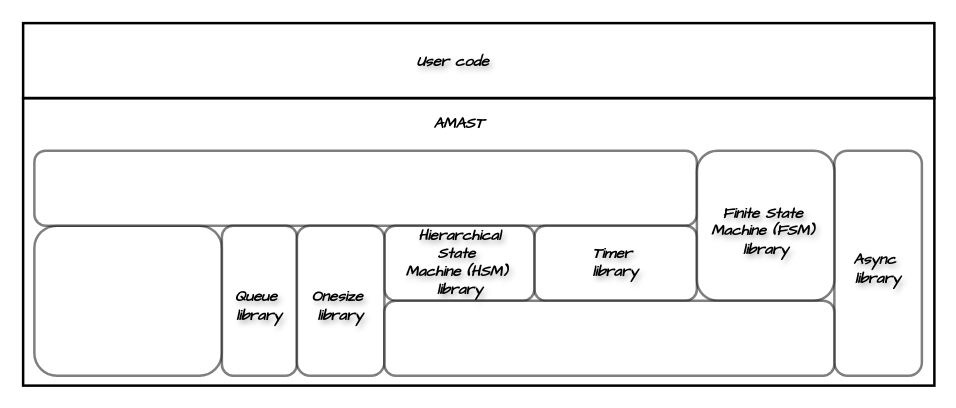
Some shapes in this 956 by 408 pixel diagram are drawn without their labels. Here are the shapes that lost their labels. From the top down, the centre of each, then its label:
[365,187]: Active Object (AO) library
[127,300]: Platform Abstraction Layer (PAL) library
[608,337]: Event library
